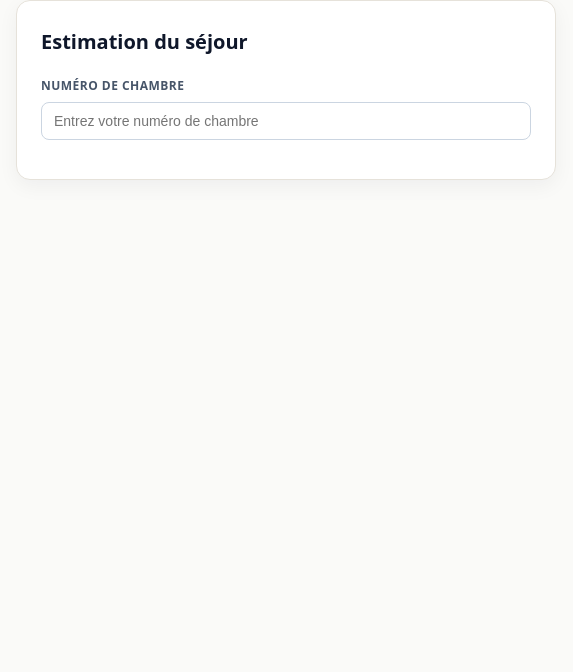
TarifsPage › calcule saison, promotion et durée
In the field with placeholder "Entrez votre numéro de chambre": x=286, y=121 x1=41 y1=102 x2=531 y2=140, type "101"
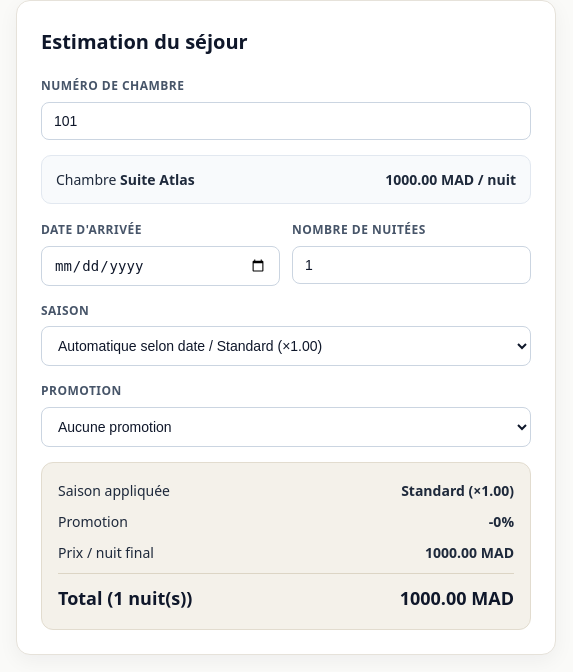
Now the text "Suite Atlas" is shown, box x1=120 y1=170 x2=195 y2=189
Replace the text in the number field with "3": x=412, y=265 x1=292 y1=246 x2=531 y2=284
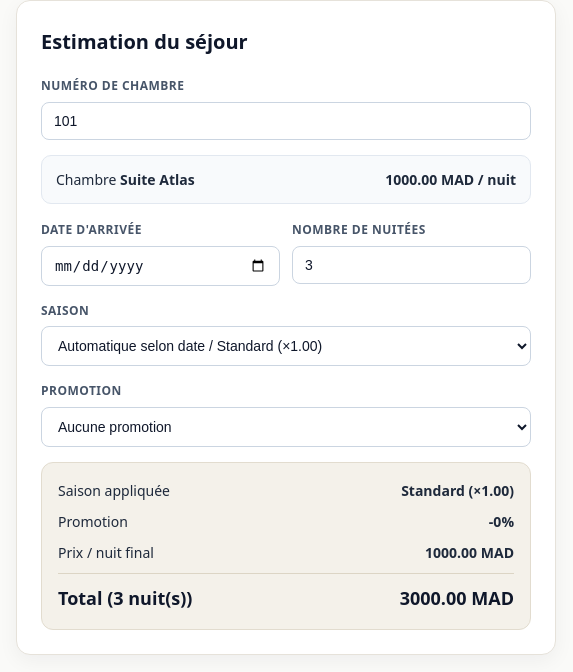
Select "Haute saison (×1.50)" in the 1st dropdown: x=286, y=346 x1=41 y1=326 x2=531 y2=366
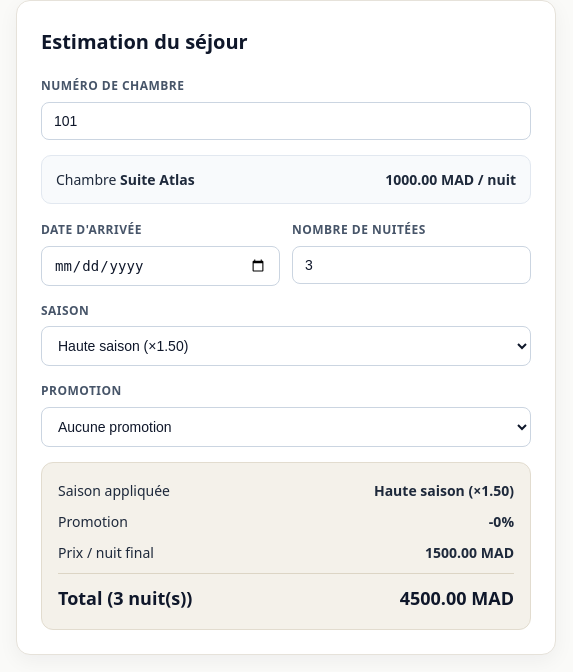
Select "Promo (-20%)" in the 2nd dropdown: x=286, y=427 x1=41 y1=407 x2=531 y2=447
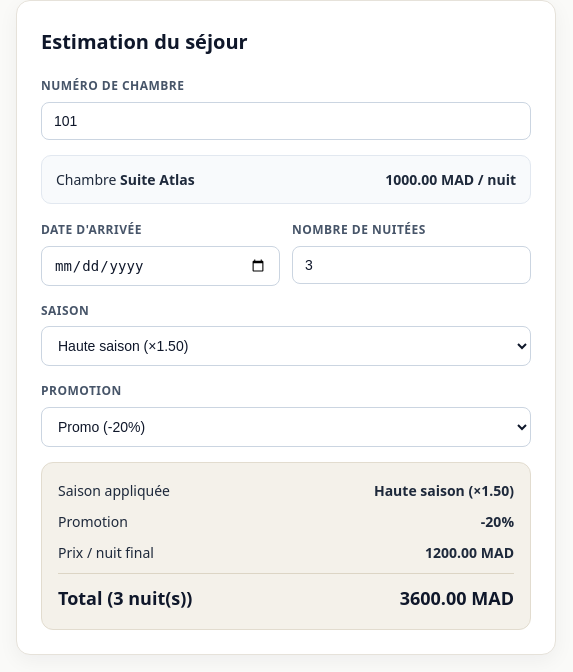
Now the text "3600.00 MAD" is shown, box x1=400 y1=584 x2=514 y2=613
